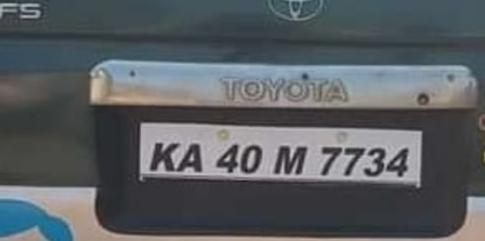0: (241, 140, 264, 175)
3: (366, 145, 387, 180)
4: (386, 145, 413, 180), (214, 140, 240, 175)
7: (343, 137, 367, 180), (321, 141, 344, 178)
A: (179, 139, 204, 175)
K: (148, 136, 178, 176)
M: (272, 140, 311, 175)
